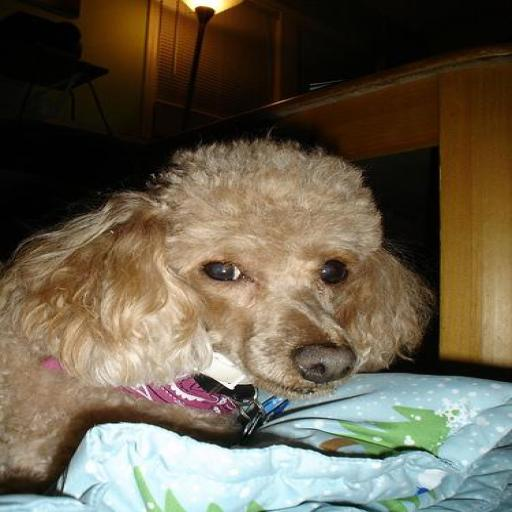dog_face: (15, 150, 373, 398)
